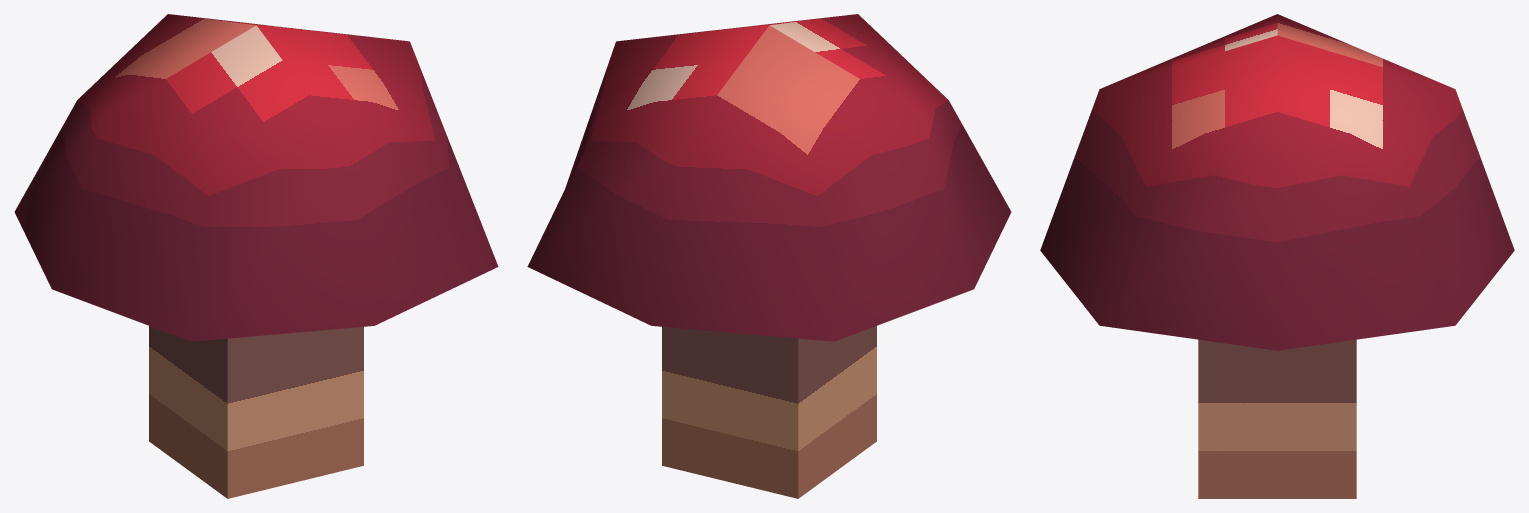
File: Mushroom_Small.fbx
3 renders of one model, left to right at view 1: azimuth 30°, elevation 25°; view 2: azimuth 150°, elevation 25°; view 3: azimuth 270°, elevation 25°, orthographic.
Visible parts, largest first — view 1: Mushroom_Small; view 2: Mushroom_Small; view 3: Mushroom_Small.
Part boxes in pixels (box(x1,y1,x2,y2)): Mushroom_Small: box(14, 14, 498, 498); Mushroom_Small: box(527, 14, 1011, 498); Mushroom_Small: box(1040, 14, 1514, 498).
Size of the model in its own units: 2.25 by 2.25 by 2.25.
